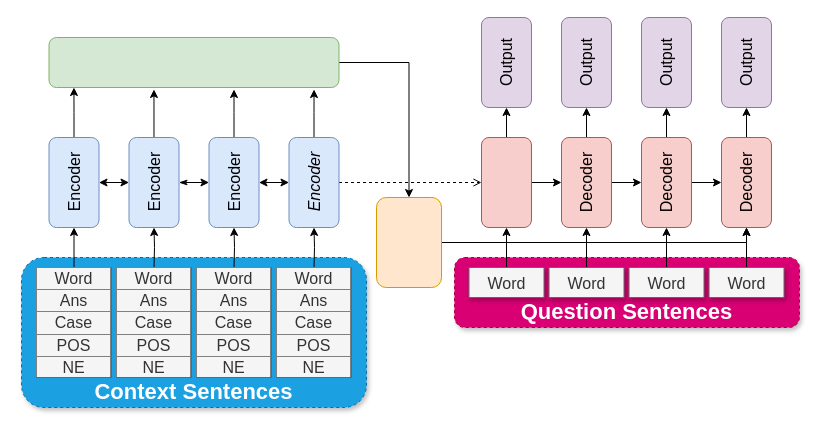
The diagram is 823 pixels wide and 432 high, and some of its shapes have lost their labels. The centre of each missing label's shape, as x and y in pixels:
"Attention Mechanism" belongs at point 193,62.
"Context Vector" belongs at point 409,242.
"De coder" belongs at point 506,182.
